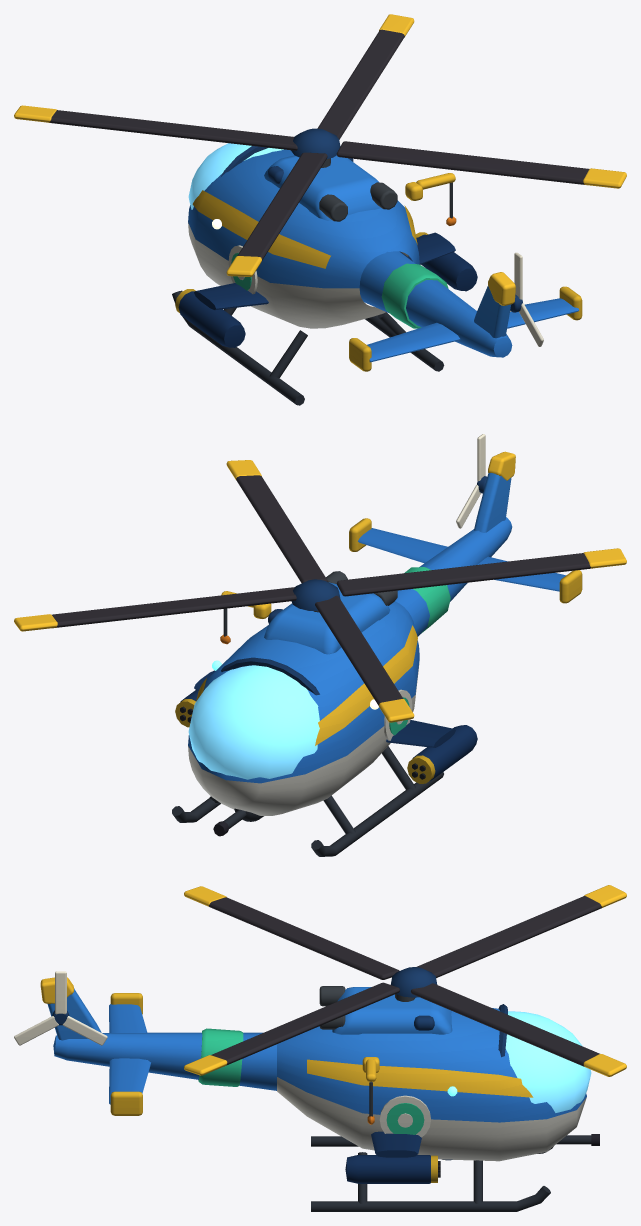
File: helicopter.glb
3 views of the same model, one above another, from view 1: azimuth 30°, elevation 25°; view 2: azimuth 150°, elevation 25°; view 3: azimuth 270°, elevation 25° (orthographic). The views are drawn at different scales.
Visible parts, largest first — view 1: helicopter Kestrel sky, helicopter Rotor Ashen charcoal, helicopter Kestrel navy, helicopter Warm white, helicopter Sunflower, helicopter Gunmetal, helicopter Rotor Sunflower, helicopter Relief mint, helicopter Glass, helicopter Rotor Kestrel navy, helicopter TailRotor Warm white; view 2: helicopter Kestrel sky, helicopter Rotor Ashen charcoal, helicopter Glass, helicopter Warm white, helicopter Sunflower, helicopter Kestrel navy, helicopter Gunmetal, helicopter Rotor Sunflower, helicopter Relief mint, helicopter Rotor Kestrel navy, helicopter TailRotor Warm white; view 3: helicopter Kestrel sky, helicopter Rotor Ashen charcoal, helicopter Warm white, helicopter Sunflower, helicopter Glass, helicopter Gunmetal, helicopter Kestrel navy, helicopter Relief mint, helicopter Rotor Sunflower, helicopter TailRotor Warm white, helicopter Rotor Kestrel navy.
Part boxes in pixels (x1,y1,x2,y2): helicopter Kestrel sky: (188,149,579,362); helicopter Rotor Ashen charcoal: (49,29,589,260); helicopter Kestrel navy: (178,146,477,347); helicopter Warm white: (188,222,408,328); helicopter Sunflower: (175,173,582,371); helicopter Gunmetal: (172,158,452,405); helicopter Rotor Sunflower: (14,14,626,276); helicopter Relief mint: (231,253,448,328); helicopter Glass: (188,143,283,209); helicopter Rotor Kestrel navy: (291,128,340,158); helicopter TailRotor Warm white: (510,252,543,346); helicopter Kestrel sky: (188,472,565,783); helicopter Rotor Ashen charcoal: (52,475,592,705); helicopter Glass: (188,665,319,779); helicopter Warm white: (188,660,419,815); helicopter Sunflower: (175,451,582,783); helicopter Kestrel navy: (180,609,477,781); helicopter Gunmetal: (172,571,443,856); helicopter Rotor Sunflower: (14,460,626,722); helicopter Relief mint: (389,567,450,735); helicopter Rotor Kestrel navy: (291,579,340,611); helicopter TailRotor Warm white: (456,434,485,528); helicopter Kestrel sky: (47,987,586,1122); helicopter Rotor Ashen charcoal: (209,896,601,1066); helicopter Warm white: (277,1077,586,1161); helicopter Sunflower: (40,977,533,1182); helicopter Glass: (505,1011,591,1112); helicopter Gunmetal: (311,986,550,1211); helicopter Kestrel navy: (345,1004,507,1183); helicopter Relief mint: (198,1028,424,1134); helicopter Rotor Sunflower: (184,885,626,1076); helicopter TailRotor Warm white: (14,971,107,1045); helicopter Rotor Kestrel navy: (390,967,437,997).
Size of the model in its own units: 5.17 by 2.78 by 7.15.
12 materials, 9 textured.
